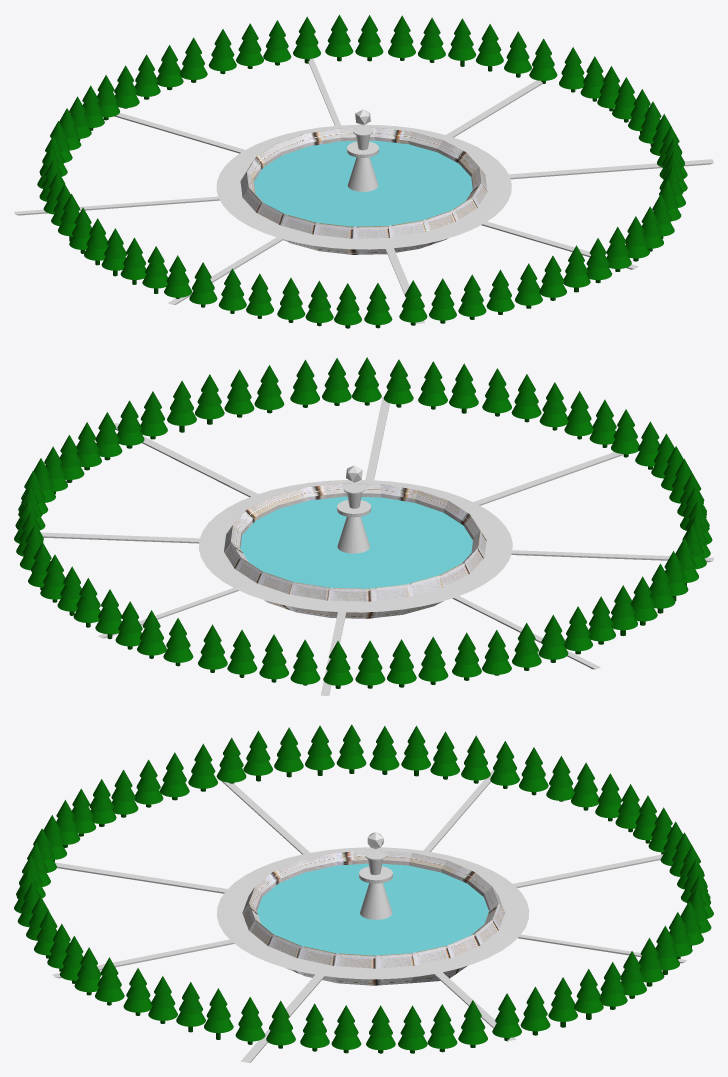
Rendered from StageMap - コピー.gltf.
The picture shows the model from 3 angles, top to bottom: view 1: azimuth 30°, elevation 25°; view 2: azimuth 150°, elevation 25°; view 3: azimuth 270°, elevation 25°; orthographic projection. The views are drawn at different scales.
Visible parts, largest first — view 1: Cylinder.006, Torus.003, Torus, Cylinder.001; view 2: Cylinder.006, Torus.003, Torus, Cylinder.001; view 3: Cylinder.006, Torus.003, Torus, Cylinder.001.
Boxes of the visible parts, x1,y1,x2,y2 form: Cylinder.006: (254,140,472,226); Torus.003: (14,58,713,323); Torus: (240,127,487,254); Cylinder.001: (347,157,378,191); Cylinder.006: (240,496,472,588); Torus.003: (41,397,713,695); Torus: (224,483,486,618); Cylinder.001: (337,516,369,553); Cylinder.006: (257,863,488,955); Torus.003: (52,769,686,1062); Torus: (242,850,504,985); Cylinder.001: (360,883,392,919).
Size of what is drawn, in the model's own units: 41.66 by 6.87 by 41.18.
Materials: 7 (1 with a texture image).
